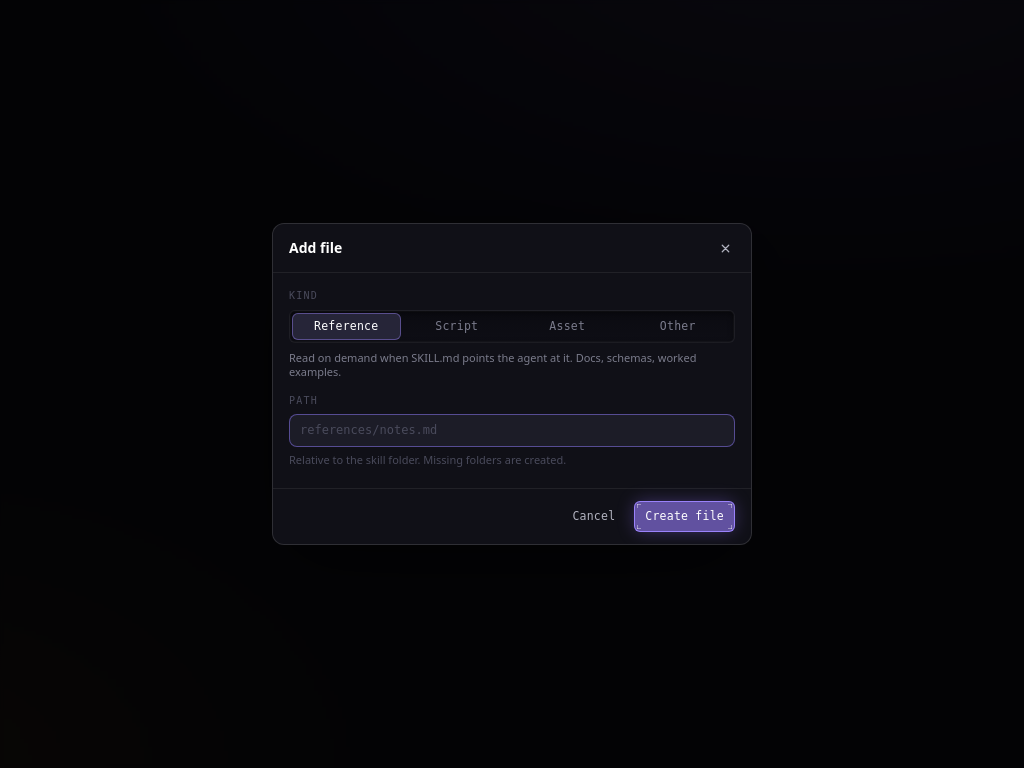
Test: AddSkillFileSheet › switching the kind swaps the prefix, the consequence and the placeholder
Click the radio button labelled "Script": click(457, 326) [435,319,478,333]
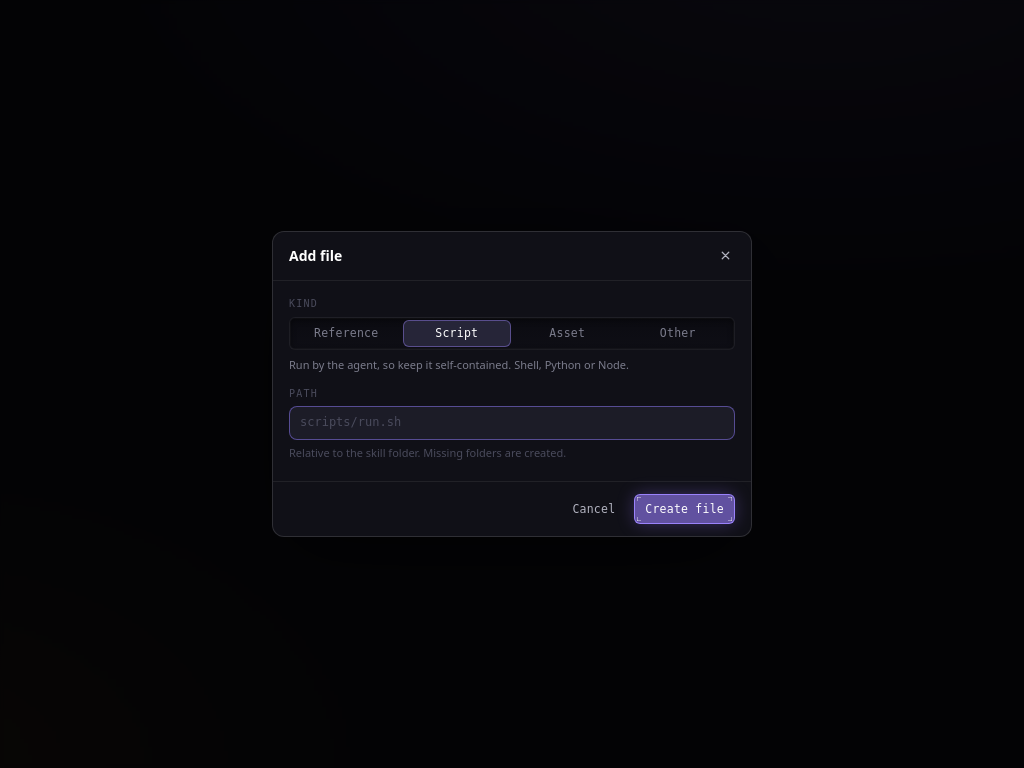
Now the text with test id "skill-files-prefix" reads "scripts/", box [300,415,358,429]
Now the text with test id "skill-files-kind-consequence" shows "Run by the agent", box [289,357,629,372]
Click the radio button labelled "Other": click(678, 333) [660,326,696,340]
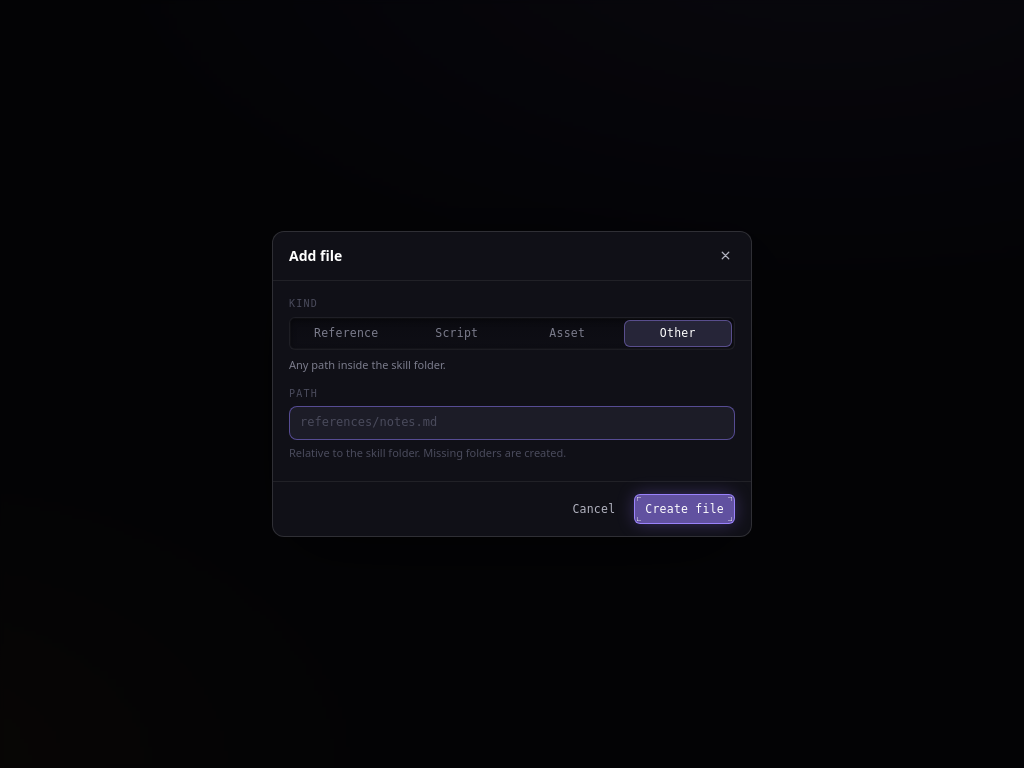
Now the text with test id "skill-files-prefix" is gone
